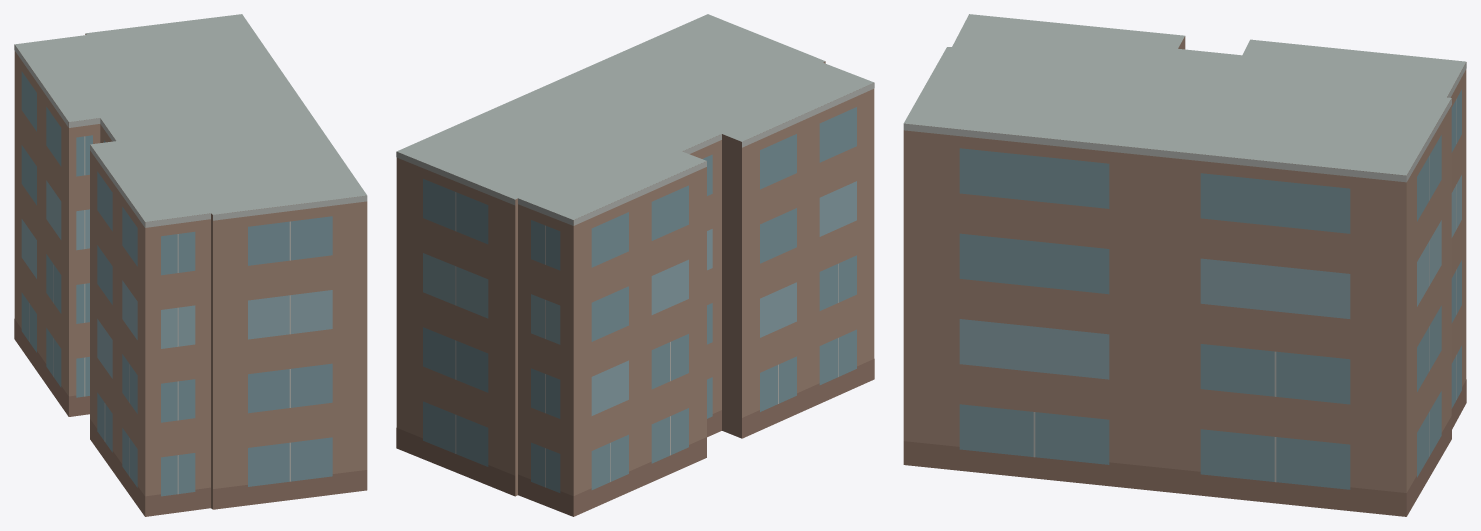
The model's file is survey-upis-32661893.glb.
3 renders of one model, left to right at view 1: azimuth 30°, elevation 25°; view 2: azimuth 150°, elevation 25°; view 3: azimuth 270°, elevation 25°, orthographic. The views are drawn at different scales.
Visible parts, largest first — view 1: survey-upis-32661893.tmp; view 2: survey-upis-32661893.tmp; view 3: survey-upis-32661893.tmp.
Part boxes in pixels (x1,y1,x2,y2): survey-upis-32661893.tmp: (14, 14, 367, 516); survey-upis-32661893.tmp: (396, 14, 874, 516); survey-upis-32661893.tmp: (903, 14, 1466, 516).
Size of the model in its own units: 12.39 by 12.2 by 18.24.
